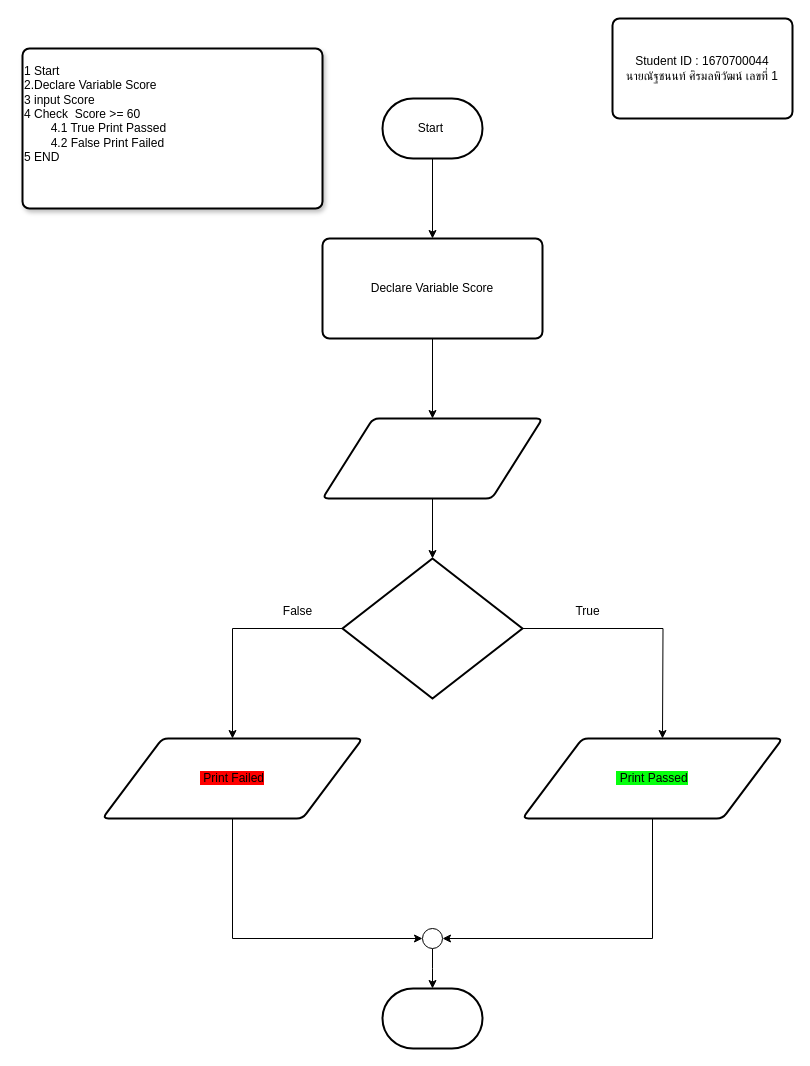
Some shapes in this 810 by 1066 pixel diagram are drawn without their labels. The shapes that lost their labels are listed below. From the top down, each one's centre as x and y in pixels, then its label:
point 432,458: input Score
point 432,628: Check Score >= 60
point 432,1018: End
